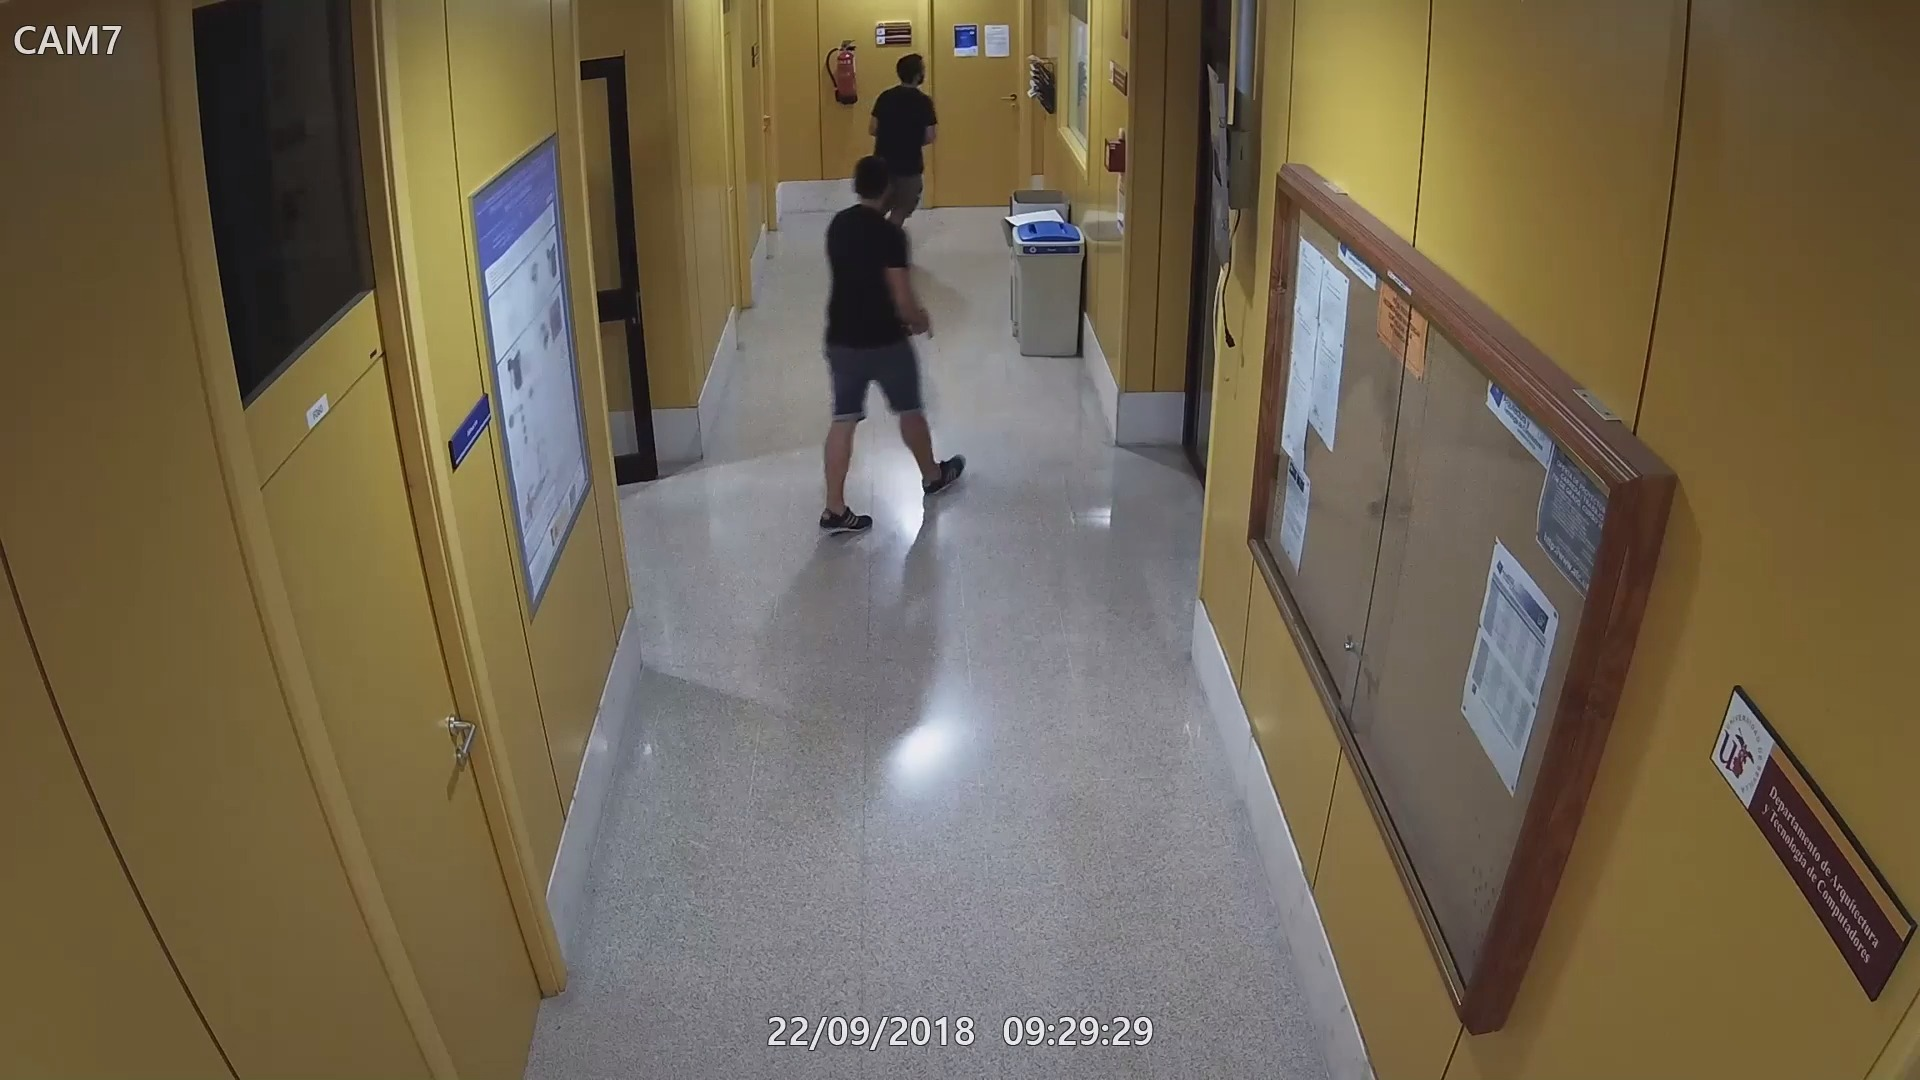Handgun: (911, 302, 938, 339)
